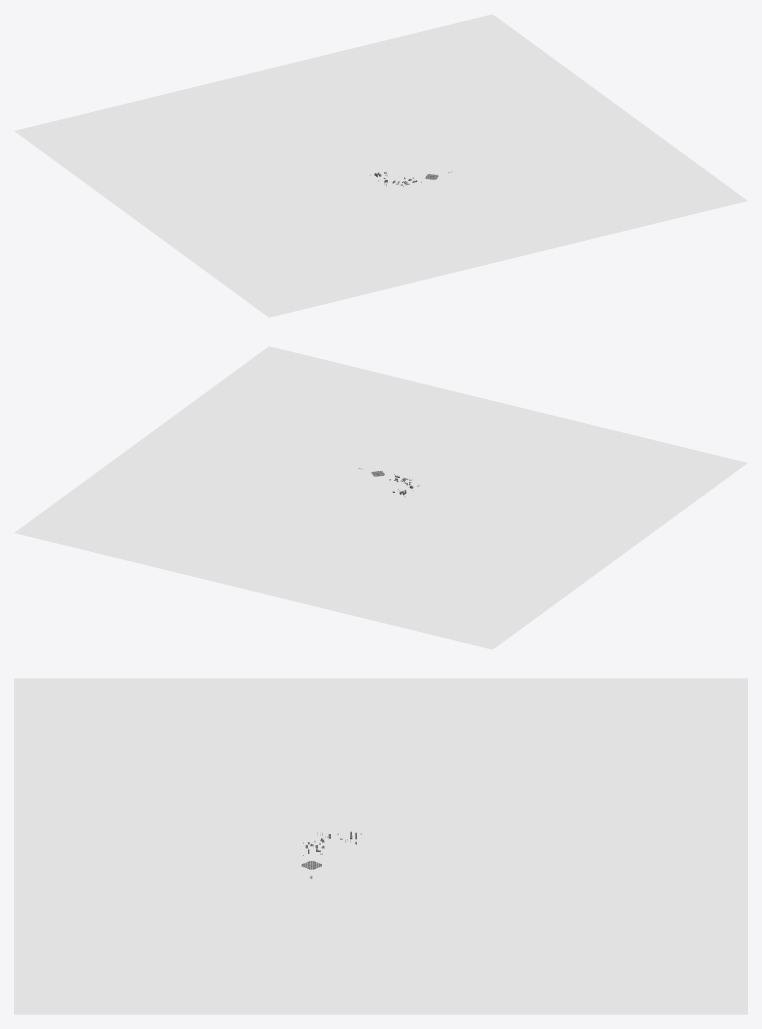
Rendered from nuclear_staffing_noHumans_mobile.glb.
The picture shows the model from 3 angles, top to bottom: view 1: azimuth 30°, elevation 25°; view 2: azimuth 150°, elevation 25°; view 3: azimuth 270°, elevation 25°; orthographic projection. The views are drawn at different scales.
Parts seen in each view (by area): view 1: floor; view 2: floor; view 3: floor.
Part boxes in pixels (box(x1,y1,x2,y2)): floor: box(14, 14, 747, 317); floor: box(14, 346, 747, 649); floor: box(14, 678, 747, 1014).
Size of the model in its own units: 969 by 6 by 894.
Materials: 4 (2 with a texture image).
